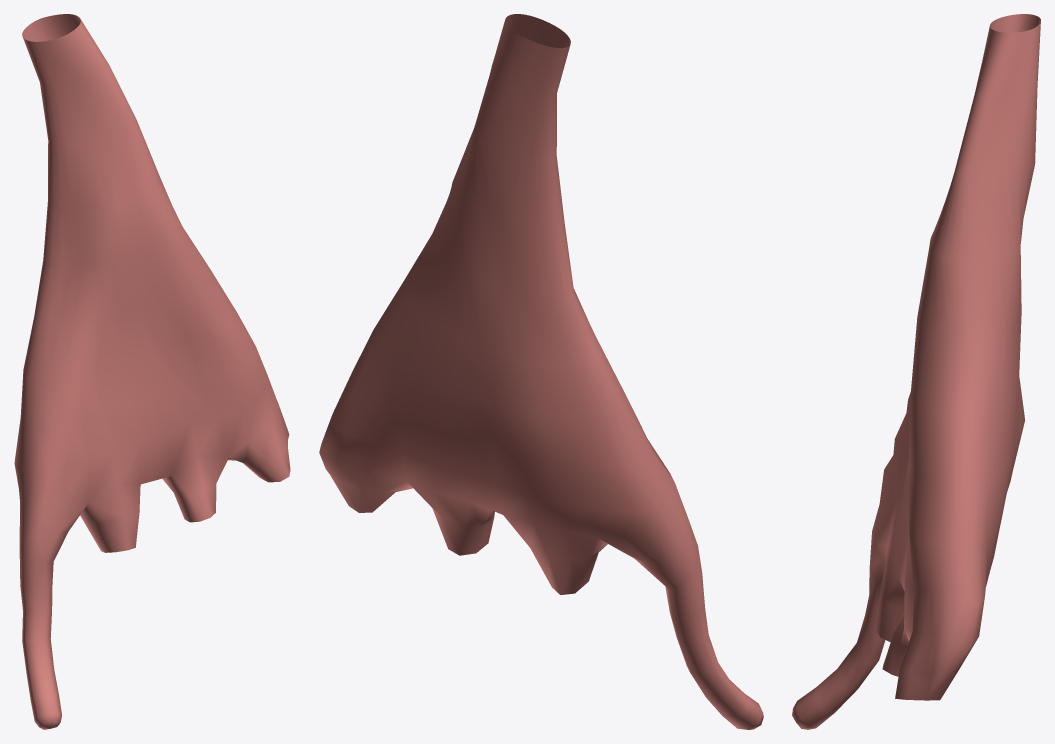
The picture shows the model from 3 angles, left to right: view 1: azimuth 30°, elevation 25°; view 2: azimuth 150°, elevation 25°; view 3: azimuth 270°, elevation 25°; orthographic projection. The views are drawn at different scales.
Parts seen in each view (by area): view 1: ZA_52507ae6b6ccf8e3; view 2: ZA_52507ae6b6ccf8e3; view 3: ZA_52507ae6b6ccf8e3.
Boxes of the visible parts, <box> form: ZA_52507ae6b6ccf8e3: <box>14,14,290,729</box>; ZA_52507ae6b6ccf8e3: <box>319,14,763,729</box>; ZA_52507ae6b6ccf8e3: <box>792,14,1040,729</box>.
Size of the model in its own units: 0.0622 by 0.1215 by 0.0359.
